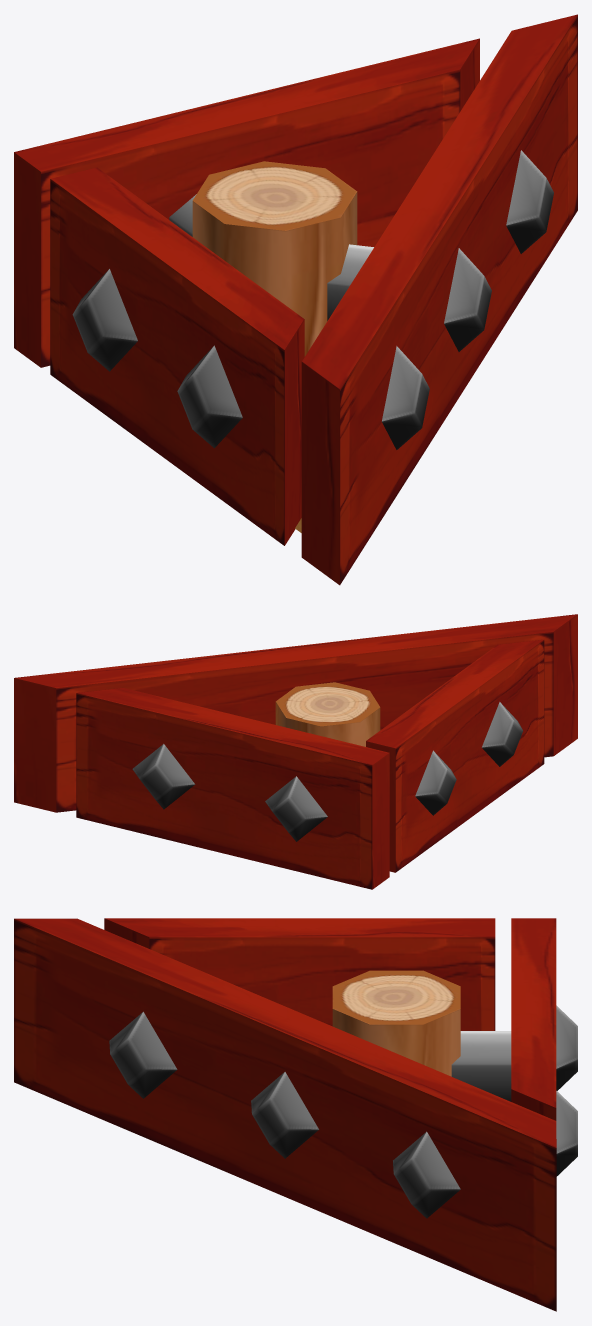
File: triangle_red_02.fbx
3 views of the same model, one above another, from view 1: azimuth 30°, elevation 25°; view 2: azimuth 150°, elevation 25°; view 3: azimuth 270°, elevation 25° (orthographic). The views are drawn at different scales.
Visible parts, largest first — view 1: triangle_red_02; view 2: triangle_red_02; view 3: triangle_red_02.
Boxes of the visible parts, x1,y1,x2,y2 form: triangle_red_02: (14, 14, 577, 585); triangle_red_02: (14, 614, 577, 889); triangle_red_02: (14, 918, 577, 1311).
Size of the model in its own units: 125 by 40 by 125.
